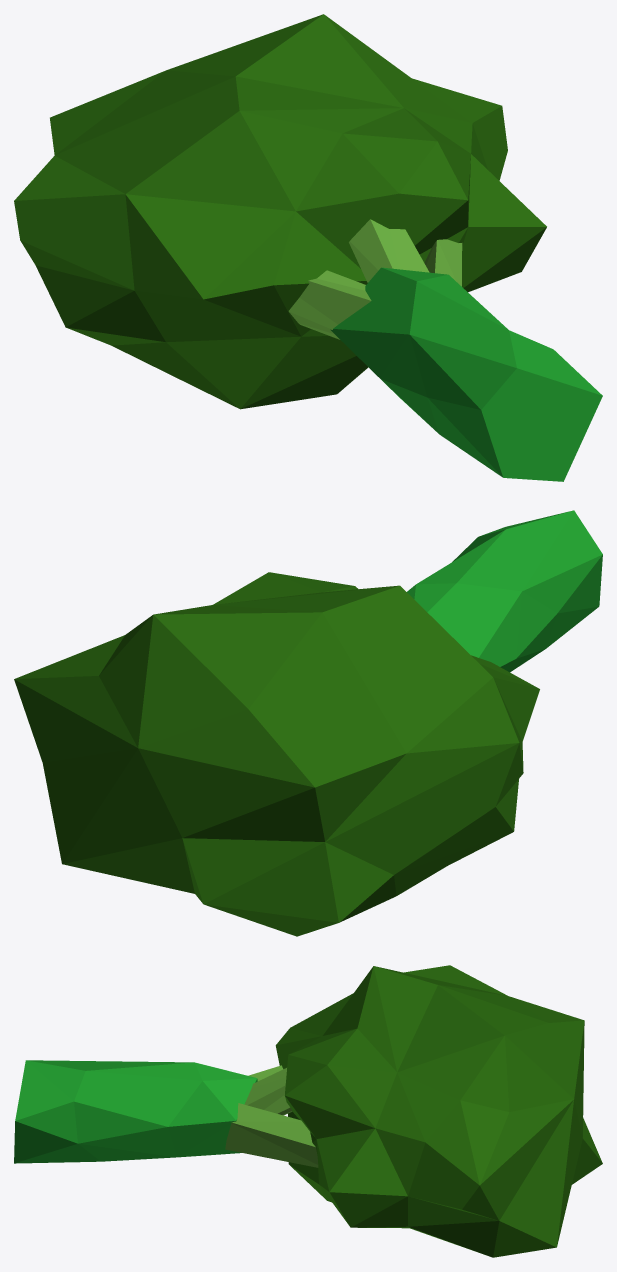
The model's file is Brocoli.glb.
The picture shows the model from 3 angles, top to bottom: view 1: azimuth 30°, elevation 25°; view 2: azimuth 150°, elevation 25°; view 3: azimuth 270°, elevation 25°; orthographic projection. The views are drawn at different scales.
Visible parts, largest first — view 1: Brocoli; view 2: Brocoli; view 3: Brocoli.
Part boxes in pixels (x1,y1,x2,y2): Brocoli: [14, 14, 602, 481]; Brocoli: [14, 510, 602, 936]; Brocoli: [14, 965, 602, 1257].
Size of the model in its own units: 0.4902 by 0.2909 by 0.6499.
